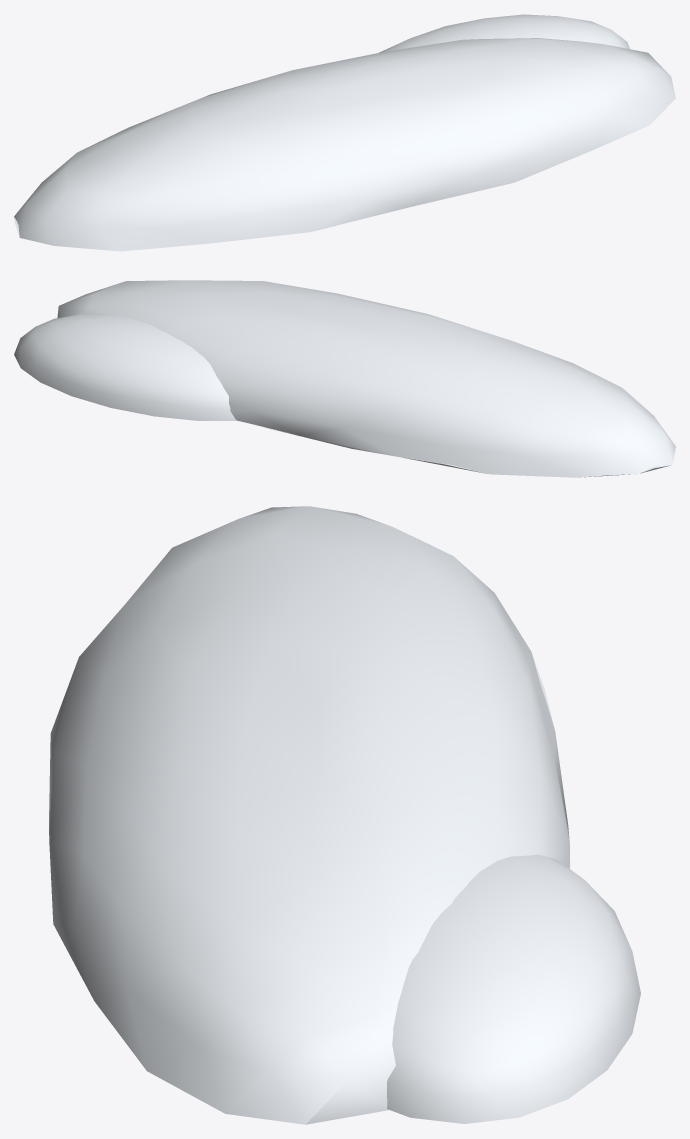
The model's file is SnowDrift.fbx.
3 renders of one model, top to bottom at view 1: azimuth 30°, elevation 25°; view 2: azimuth 150°, elevation 25°; view 3: azimuth 270°, elevation 25°, orthographic. The views are drawn at different scales.
Parts seen in each view (by area): view 1: SnowDrift; view 2: SnowDrift; view 3: SnowDrift.
Boxes of the visible parts, x1,y1,x2,y2 form: SnowDrift: (14,14,675,251); SnowDrift: (14,280,675,477); SnowDrift: (49,506,640,1124).
Size of the model in its own units: 3.22 by 0.3289 by 1.34.
Materials: 1 (1 with a texture image).
